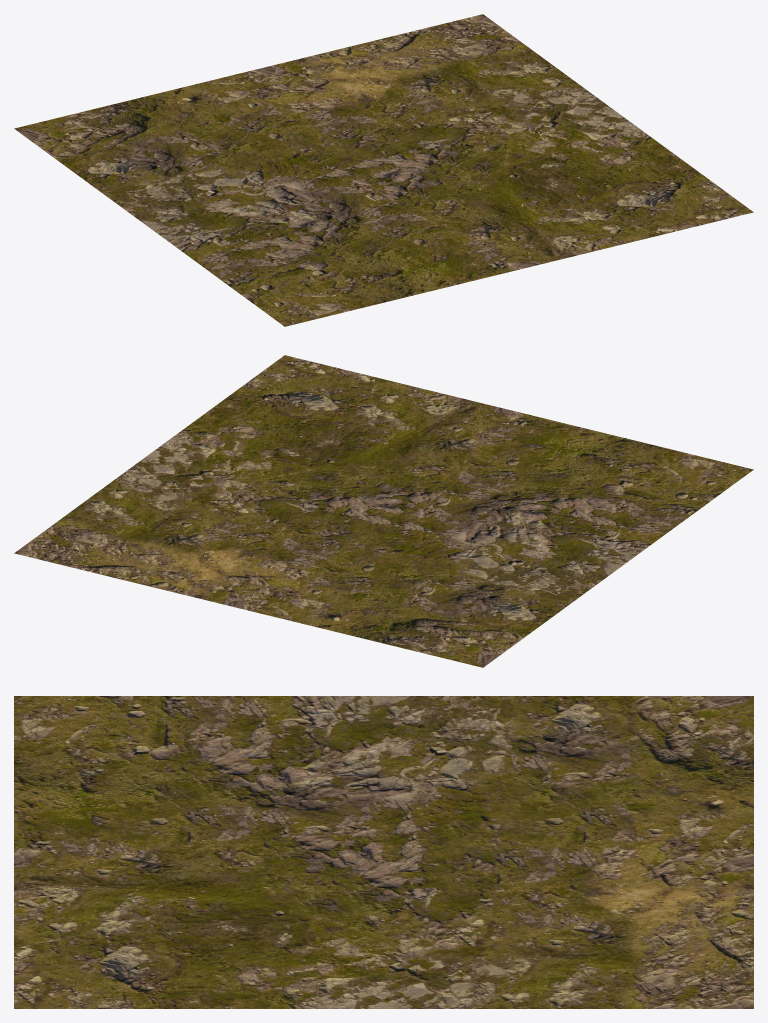
The model's file is ground-meadow-tile.glb.
3 views of the same model, one above another, from view 1: azimuth 30°, elevation 25°; view 2: azimuth 150°, elevation 25°; view 3: azimuth 270°, elevation 25° (orthographic). The views are drawn at different scales.
Visible parts, largest first — view 1: pPlane1; view 2: pPlane1; view 3: pPlane1.
Part boxes in pixels (x1=…): pPlane1: x1=14, y1=14, x2=753, y2=326; pPlane1: x1=14, y1=355, x2=753, y2=667; pPlane1: x1=14, y1=696, x2=753, y2=1008.
Bounding box in the file's own units: 23.1 × 0 × 23.1.
1 material, 1 textured.
